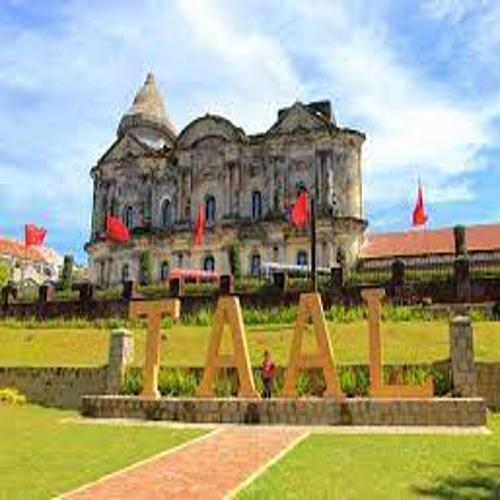Taal Basilica Church: (78, 61, 377, 309)
